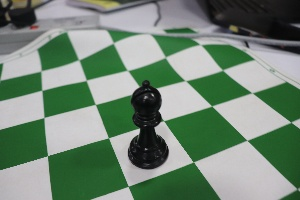black_bishop: (123, 68, 173, 174)
